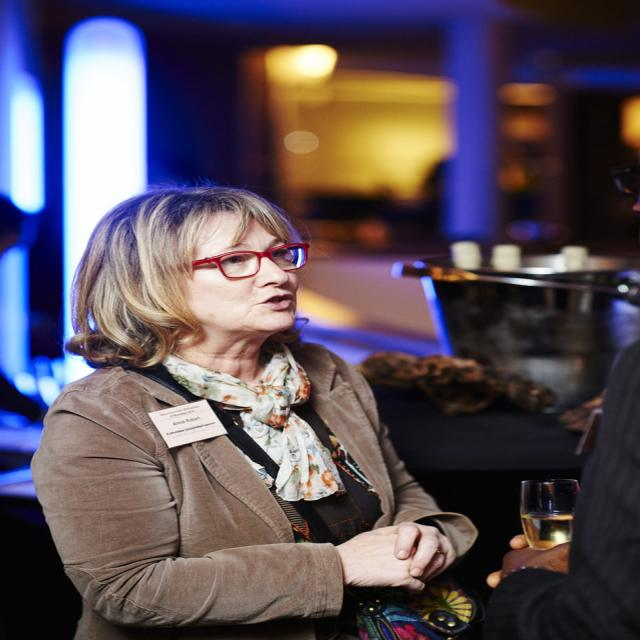Glasses: (160, 240, 316, 285)
